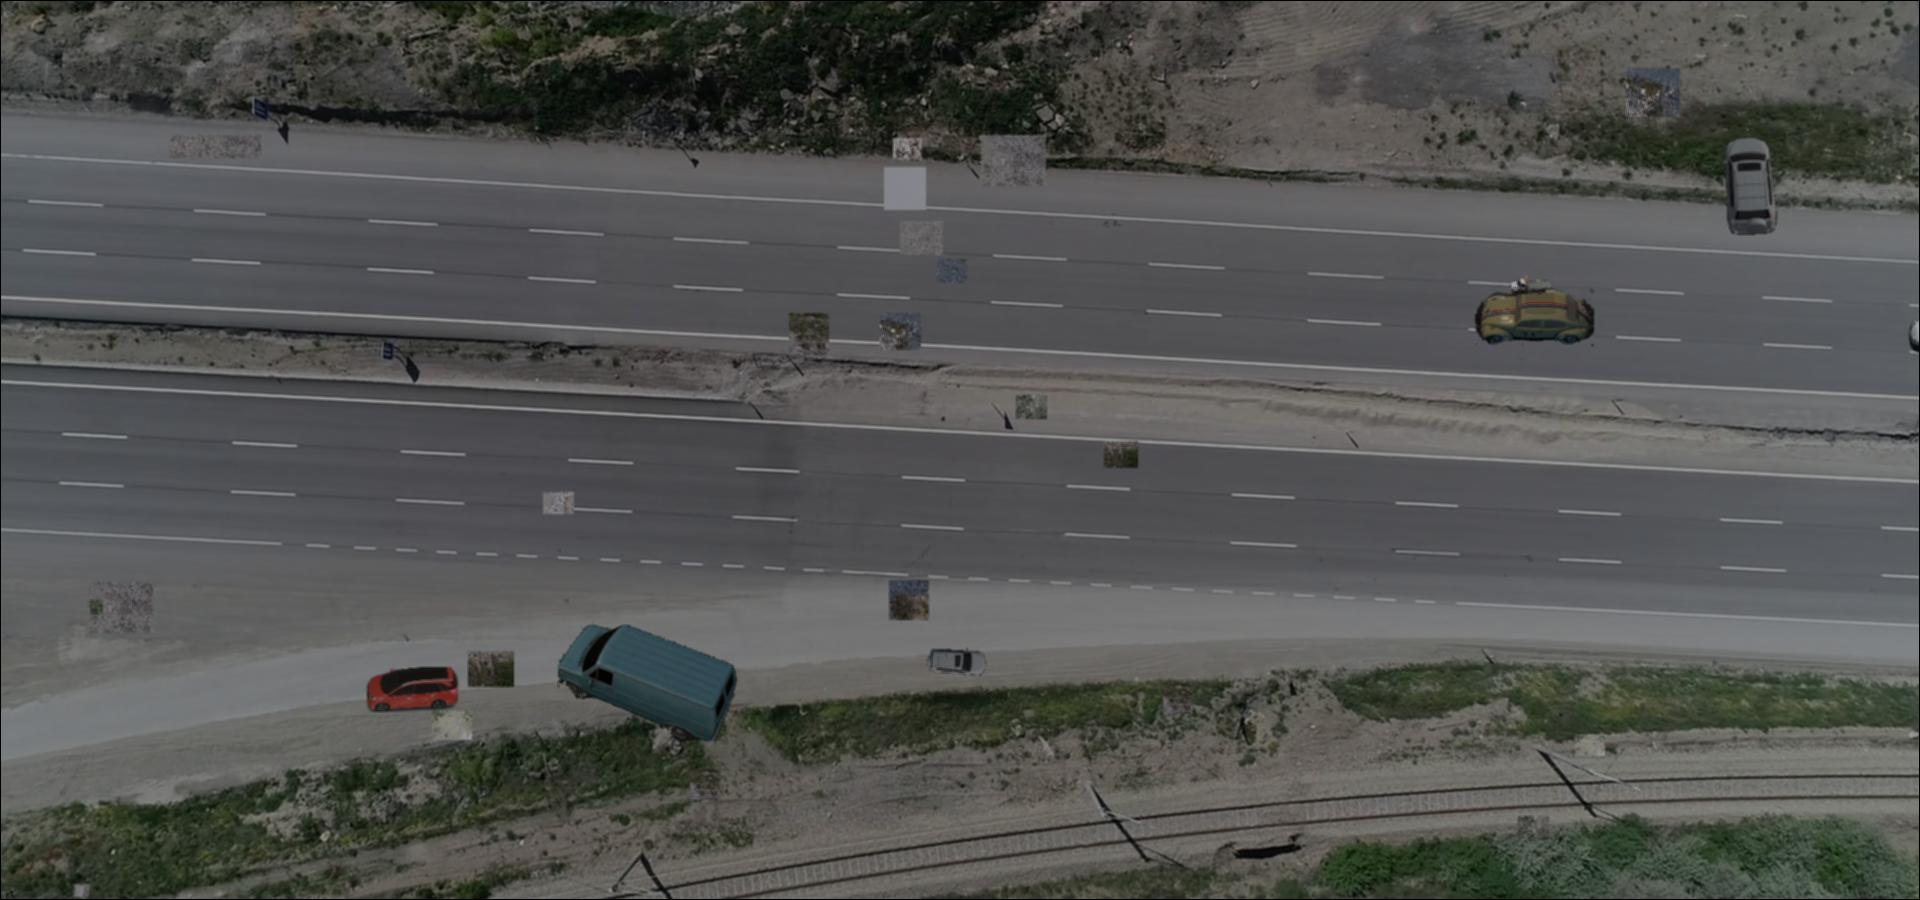arac: (558, 622, 740, 742), (1474, 287, 1594, 347), (1718, 136, 1782, 236), (367, 667, 459, 711), (927, 648, 987, 677), (1509, 276, 1550, 296)
